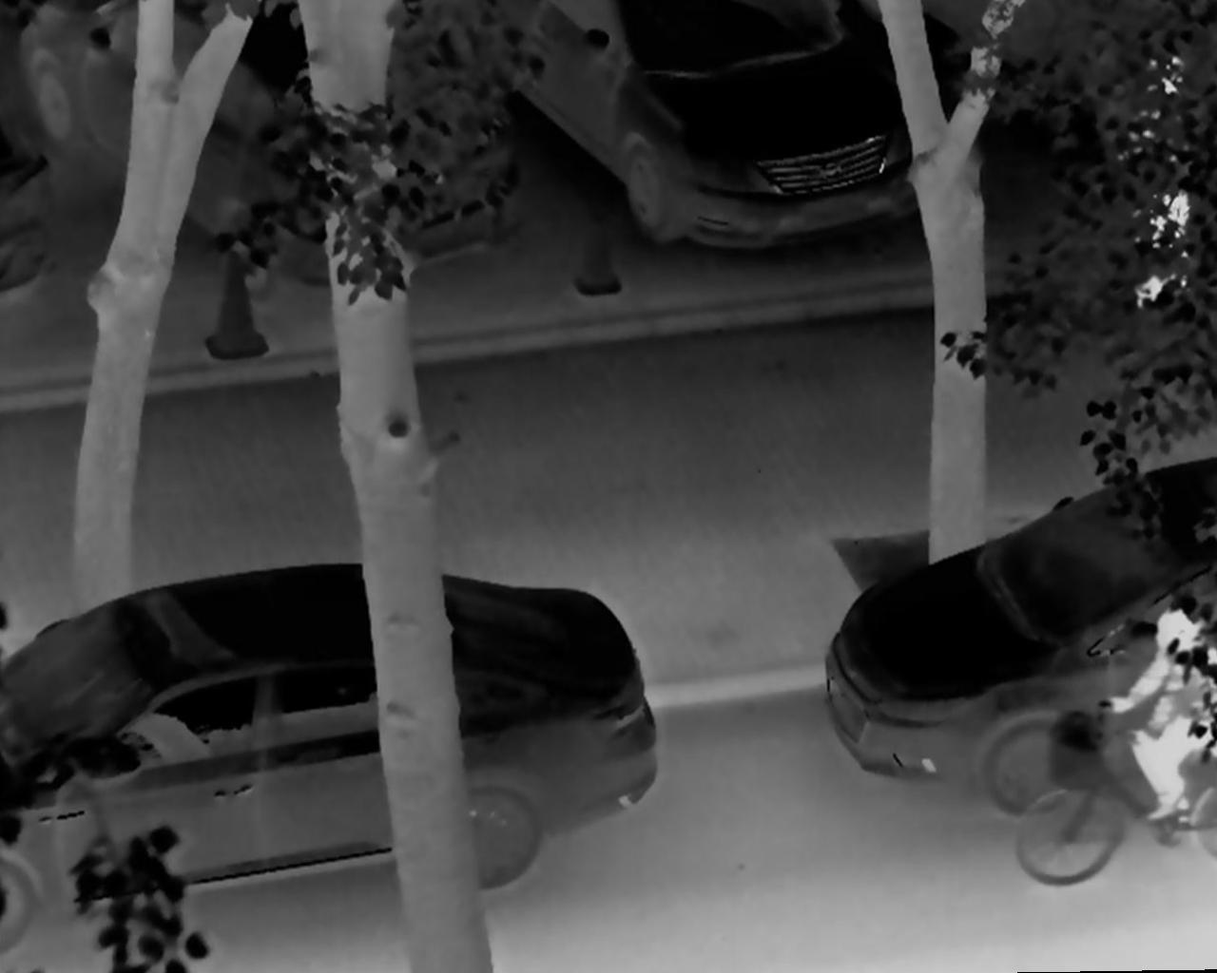person: (1107, 578, 1217, 832), (1114, 47, 1210, 318)
